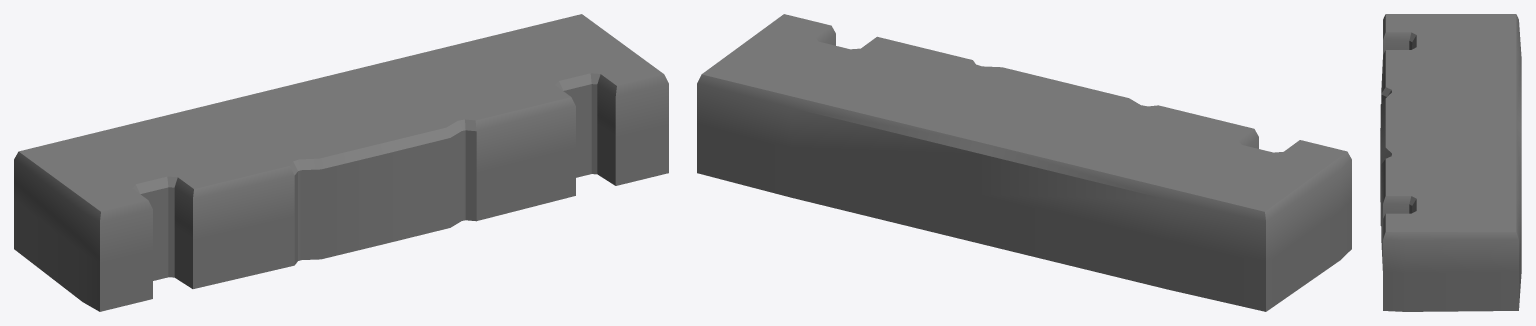
Rendered from wall_02.fbx.
3 renders of one model, left to right at view 1: azimuth 30°, elevation 25°; view 2: azimuth 150°, elevation 25°; view 3: azimuth 270°, elevation 25°, orthographic. The views are drawn at different scales.
Visible parts, largest first — view 1: wall_02; view 2: wall_02; view 3: wall_02.
Boxes of the visible parts, bbox=[...] form: wall_02: bbox=[14, 14, 668, 311]; wall_02: bbox=[697, 14, 1351, 311]; wall_02: bbox=[1380, 14, 1521, 311].
Bounding box in the file's own units: 6.12 × 1 × 1.64.
